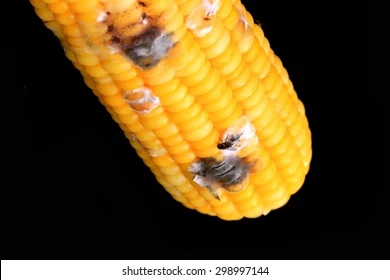rotten corn: (60, 10, 315, 226)
